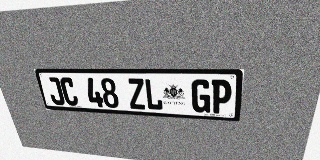4: (84, 78, 104, 107)
8: (100, 78, 119, 108)
C: (59, 77, 79, 106)
G: (192, 79, 211, 113)
J: (45, 77, 66, 105)
L: (144, 78, 163, 110)
P: (211, 79, 232, 114)
Z: (127, 78, 146, 110)
